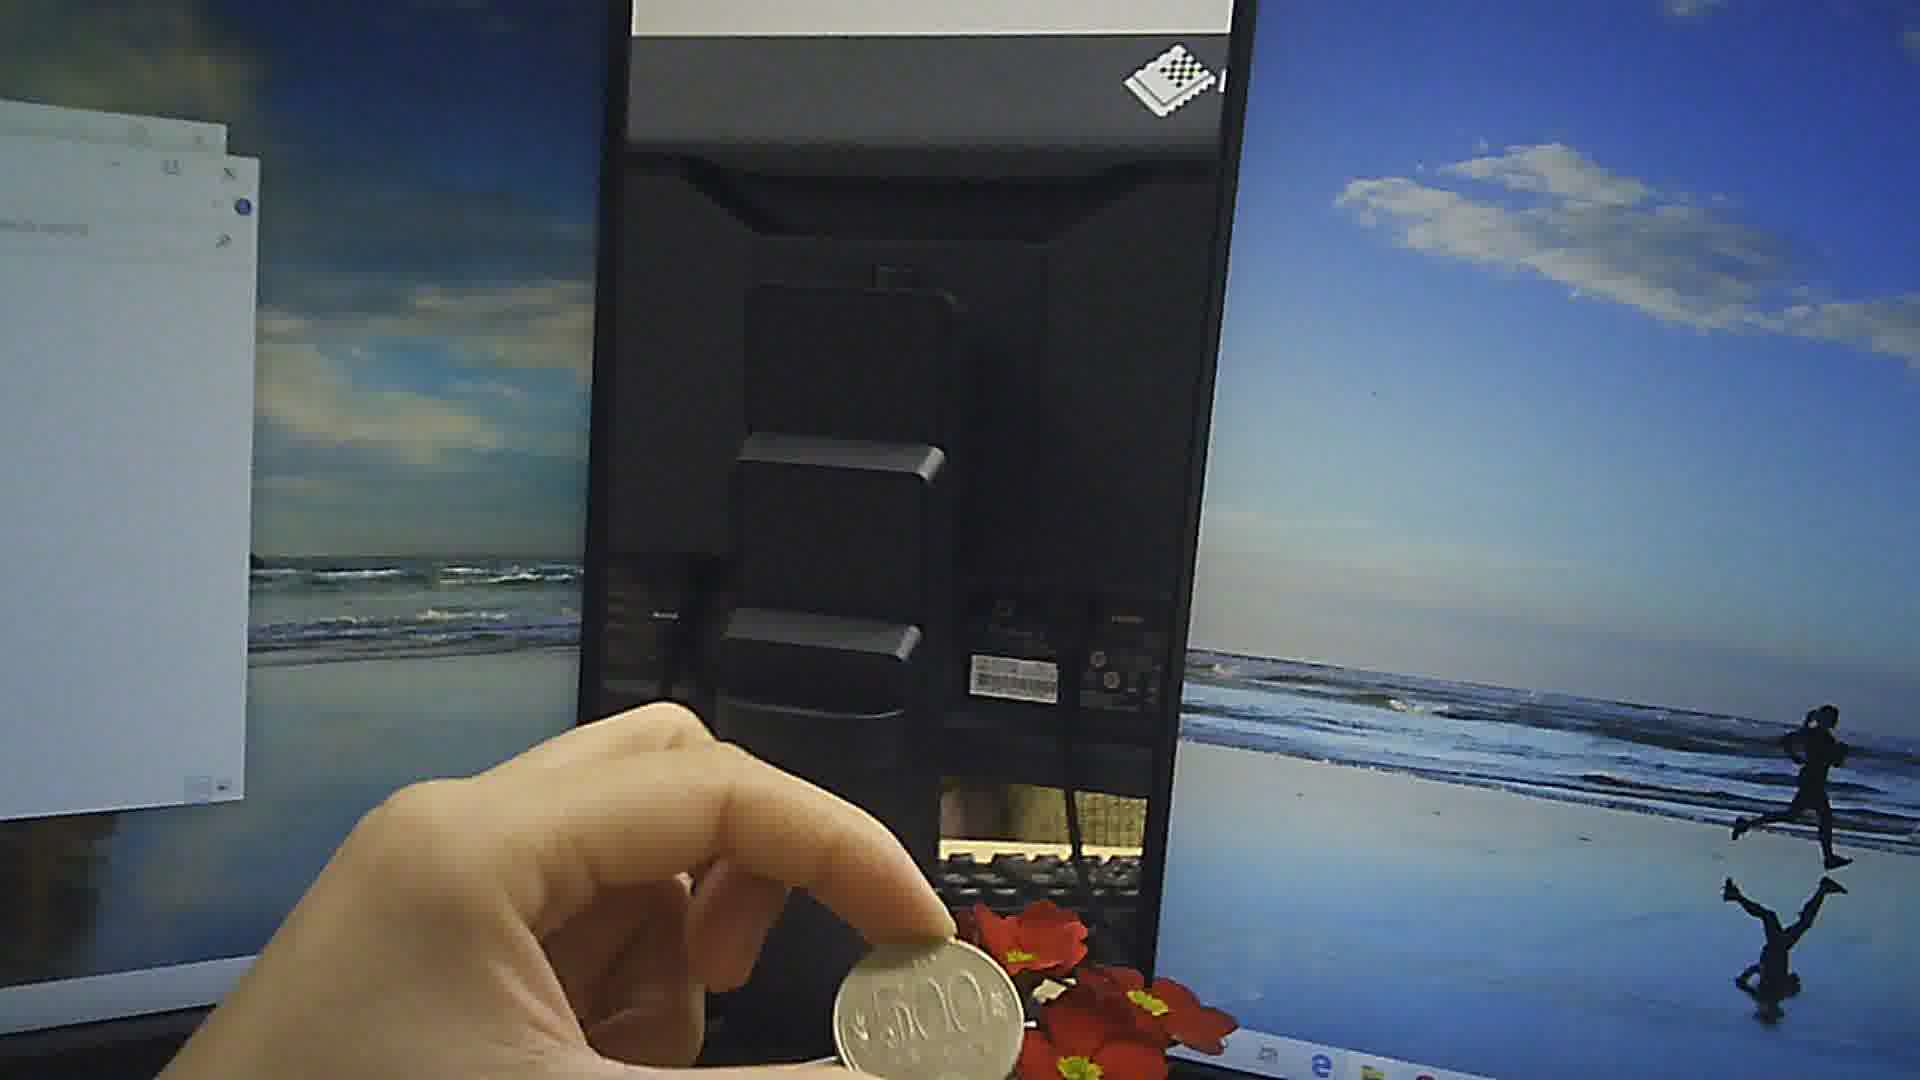500 Yen: (832, 931, 1027, 1079)
